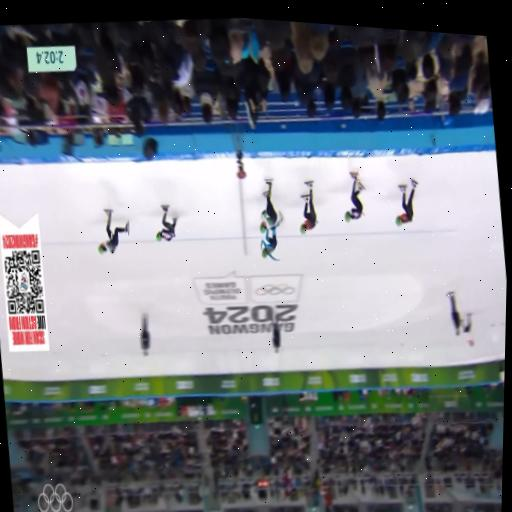Skater: (98, 209, 128, 253), (260, 211, 282, 260), (259, 179, 277, 232), (344, 171, 363, 221), (396, 179, 416, 225), (299, 180, 316, 233), (155, 204, 176, 240)
